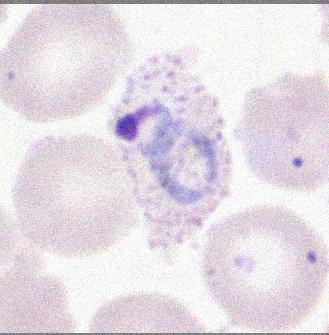Infected: (101, 43, 235, 263)
Uninfected: (199, 203, 328, 329), (1, 1, 132, 120), (14, 132, 135, 254), (235, 68, 329, 189)
